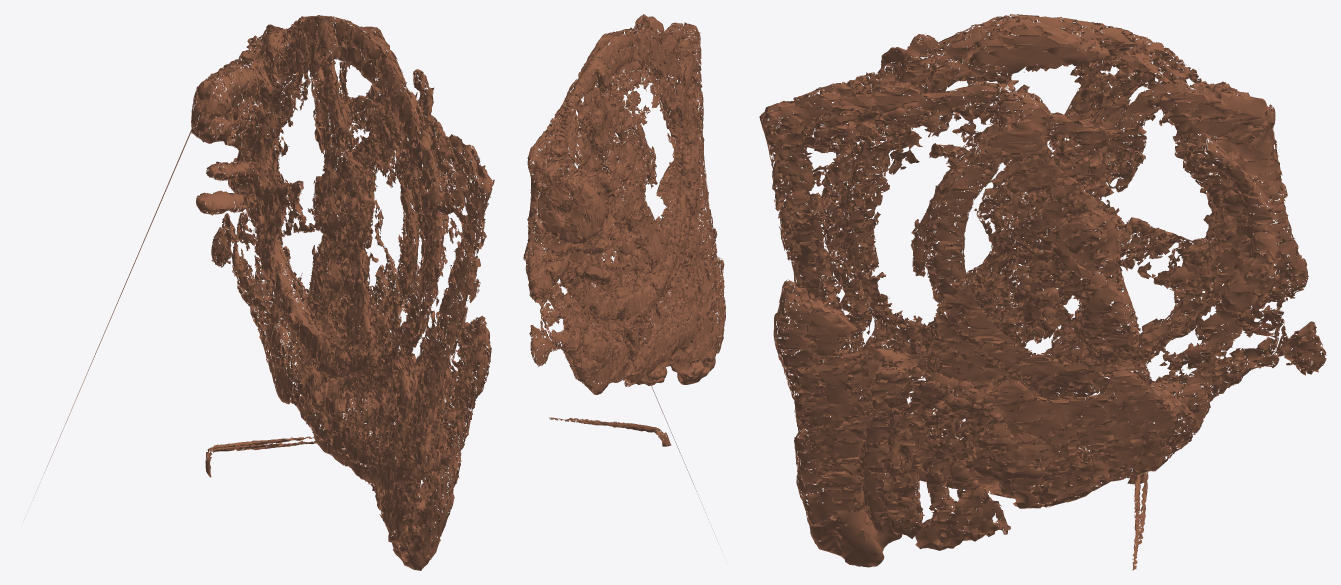
The model's file is fragment_a.glb.
The picture shows the model from 3 angles, left to right: view 1: azimuth 30°, elevation 25°; view 2: azimuth 150°, elevation 25°; view 3: azimuth 270°, elevation 25°; orthographic projection. The views are drawn at different scales.
Parts seen in each view (by area): view 1: fragment_a; view 2: fragment_a; view 3: fragment_a.
Part boxes in pixels (box(x1,y1,x2,y2)): fragment_a: box(23, 15, 494, 570); fragment_a: box(523, 14, 725, 540); fragment_a: box(759, 14, 1326, 570).
Size of the model in its own units: 113 by 199 by 164.
Materials: 1 (1 with a texture image).
